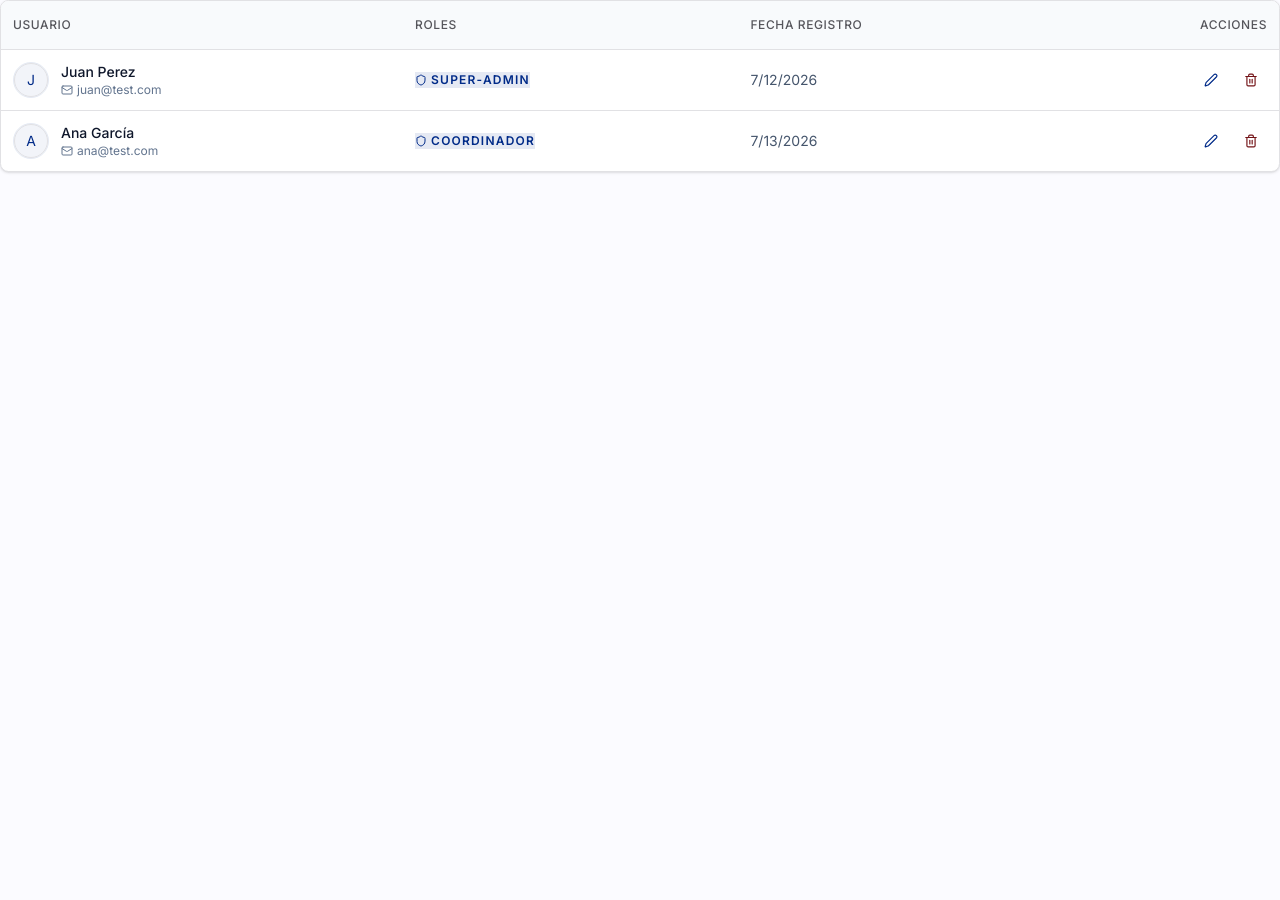
Scenario: UsersTable › abre el modal "¿Eliminar usuario?" al hacer click en eliminar
This screenshot has width=1280, height=900.
Check: the text "Juan Perez" is shown, box 61,62 -> 136,80
// Segundo botón (Trash) de la primera fila
Step 1. Click the 2nd button → (1251, 80), box 1235,64 -> 1267,96
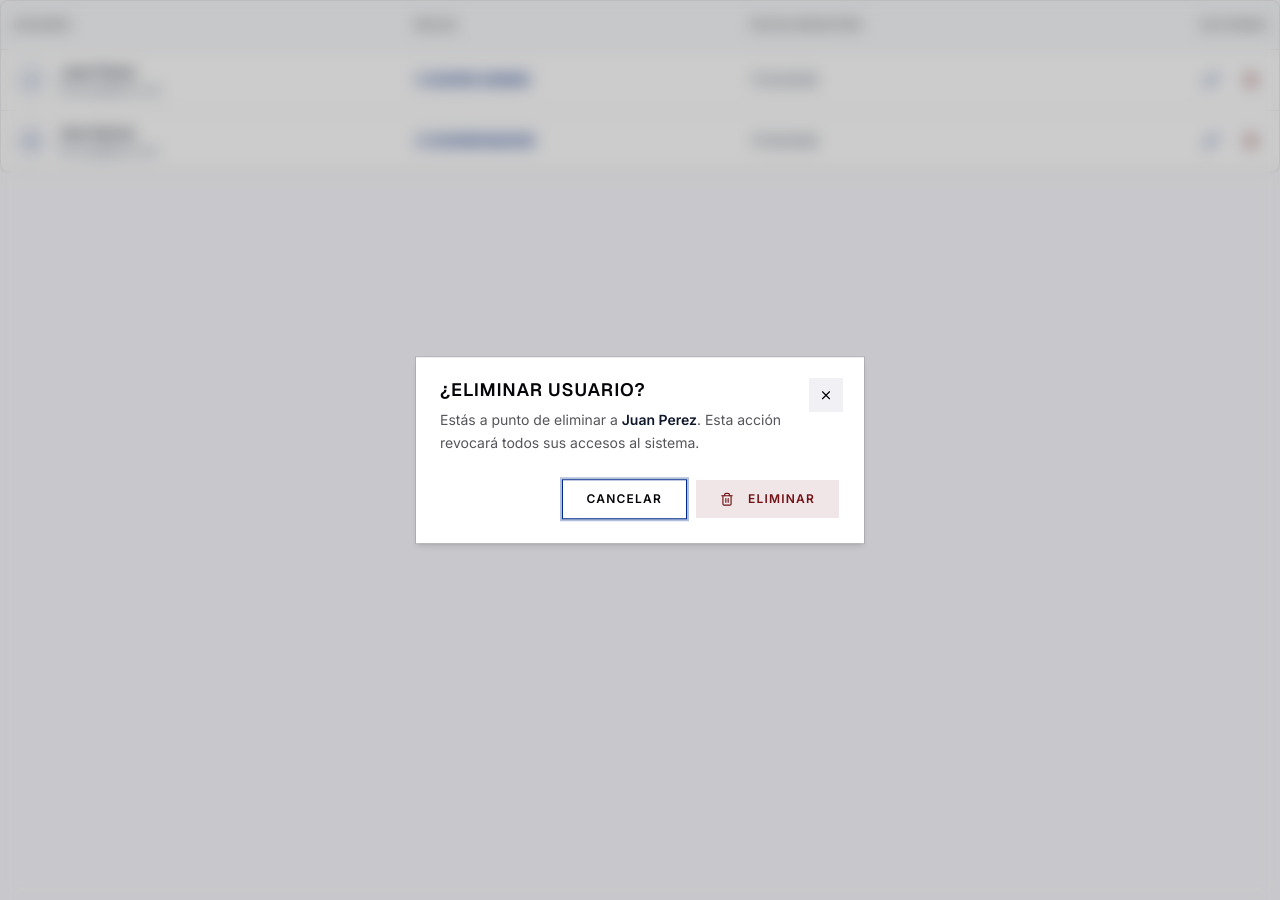
Check: the heading "¿Eliminar usuario?" is shown, box 440,378 -> 646,401
